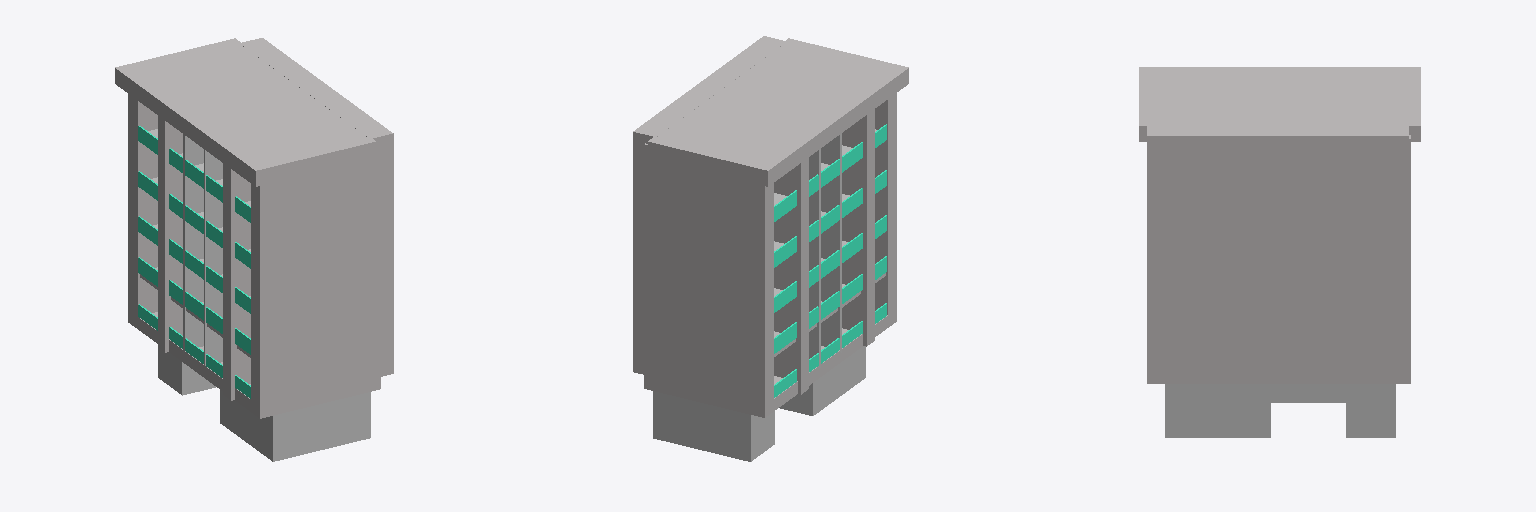
3 renders of one model, left to right at view 1: azimuth 30°, elevation 25°; view 2: azimuth 150°, elevation 25°; view 3: azimuth 270°, elevation 25°, orthographic.
Parts seen in each view (by area): view 1: 立方体.009, 立方体.005, 立方体.004_立方体.012, 立方体.008_立方体.007, 立方体.010_立方体.008, 立方体.002, 立方体.006_立方体.004, 立方体.001, 立方体.007_立方体.006, 立方体; view 2: 立方体.009, 立方体.005, 立方体.004_立方体.012, 立方体.010_立方体.008, 立方体.008_立方体.007, 立方体.002, 立方体.007_立方体.006, 立方体.001, 立方体.006_立方体.004, 立方体, 立方体.003; view 3: 立方体.009, 立方体.004_立方体.012.
Part boxes in pixels (left/top/right/bottom): 立方体.009: left=115, top=38, right=393, bottom=418; 立方体.005: left=158, top=116, right=250, bottom=400; 立方体.004_立方体.012: left=158, top=348, right=370, bottom=461; 立方体.008_立方体.007: left=183, top=134, right=203, bottom=352; 立方体.010_立方体.008: left=204, top=149, right=222, bottom=365; 立方体.002: left=138, top=216, right=250, bottom=313; 立方体.006_立方体.004: left=138, top=171, right=250, bottom=268; 立方体.001: left=138, top=257, right=250, bottom=354; 立方体.007_立方体.006: left=138, top=126, right=250, bottom=222; 立方体: left=138, top=304, right=250, bottom=398; 立方体.009: left=633, top=36, right=908, bottom=417; 立方体.005: left=774, top=109, right=874, bottom=394; 立方体.004_立方体.012: left=653, top=346, right=865, bottom=461; 立方体.010_立方体.008: left=821, top=133, right=841, bottom=352; 立方体.008_立方体.007: left=809, top=149, right=820, bottom=368; 立方体.002: left=774, top=215, right=886, bottom=312; 立方体.007_立方体.006: left=774, top=124, right=886, bottom=221; 立方体.001: left=774, top=256, right=886, bottom=353; 立方体.006_立方体.004: left=774, top=170, right=886, bottom=267; 立方体: left=774, top=303, right=886, bottom=397; 立方体.003: left=774, top=129, right=885, bottom=356; 立方体.009: left=1139, top=67, right=1420, bottom=383; 立方体.004_立方体.012: left=1165, top=384, right=1395, bottom=437.
Bounding box in the file's own units: 2.35 × 4.88 × 4.05.
Materials: 7 (2 with a texture image).